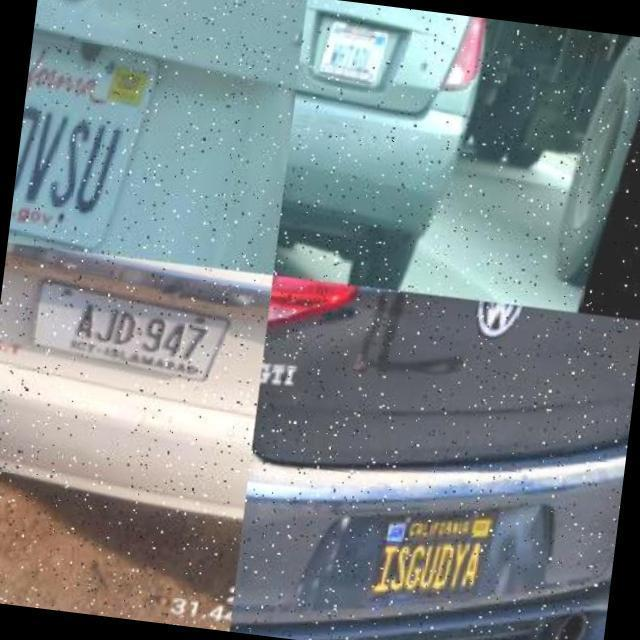License Plate: (1, 255, 260, 412), (8, 10, 168, 258), (368, 488, 512, 632), (317, 16, 399, 96)
